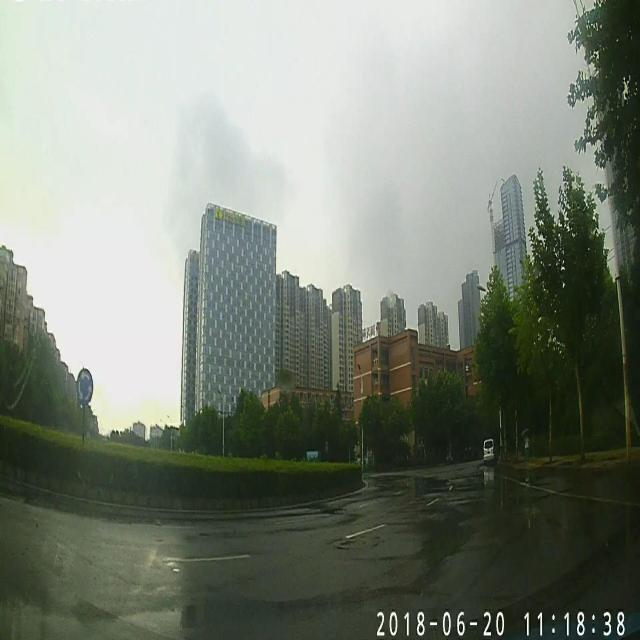car: (482, 436, 496, 462)
